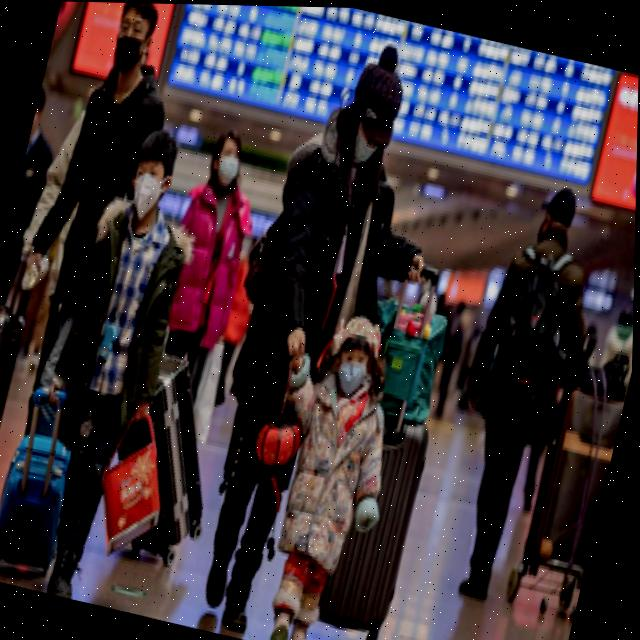Mask: (106, 23, 152, 79), (124, 172, 169, 221), (328, 349, 373, 393), (348, 127, 381, 170), (210, 150, 242, 186)
